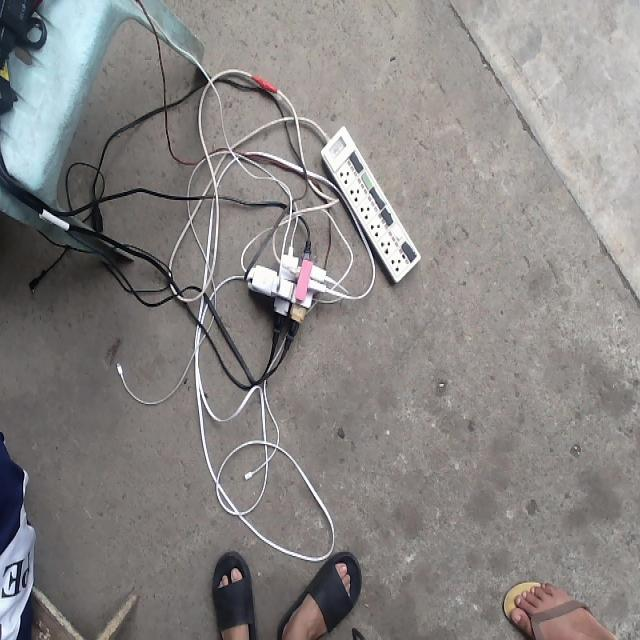-: (243, 241, 335, 328)
